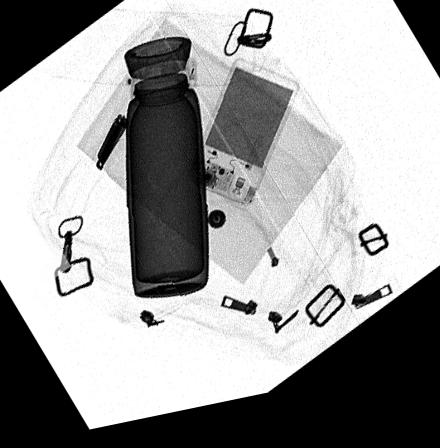Powerbank: (186, 67, 300, 217)
